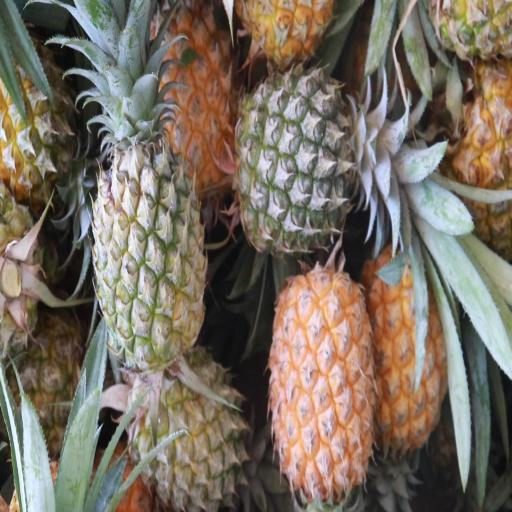Pineapple - v8 v1: (361, 228, 469, 484), (268, 278, 382, 509), (151, 0, 238, 204)
